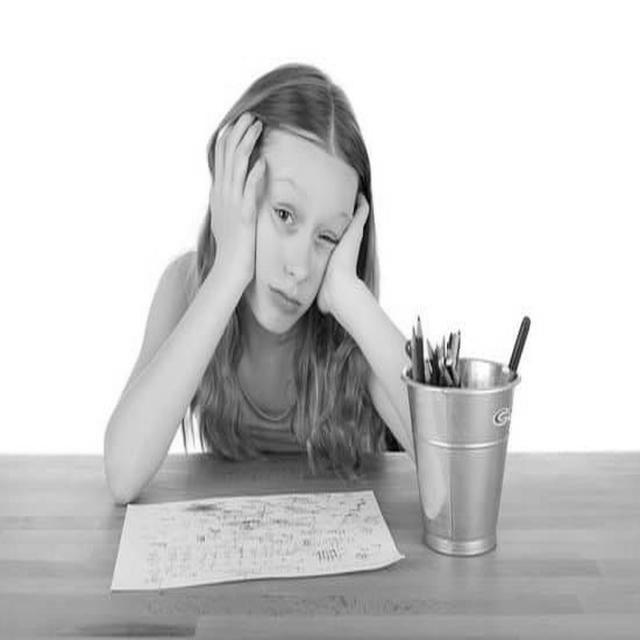Sadness: (258, 142, 347, 334)
